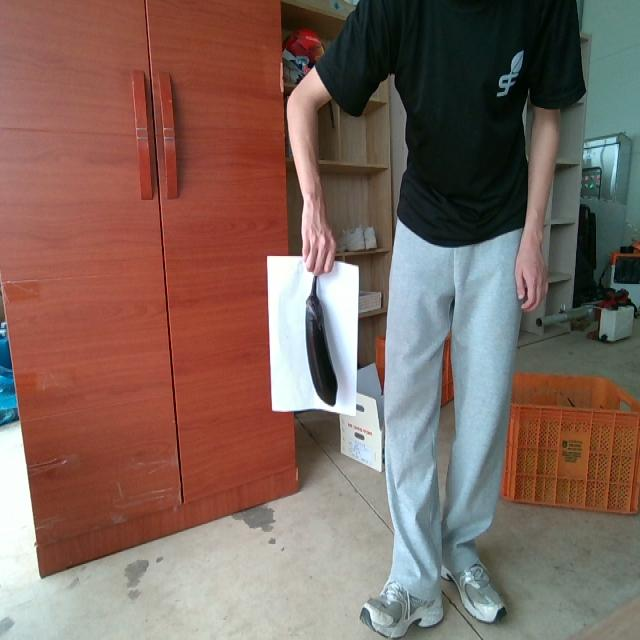Egg plant: (306, 276, 336, 404)
